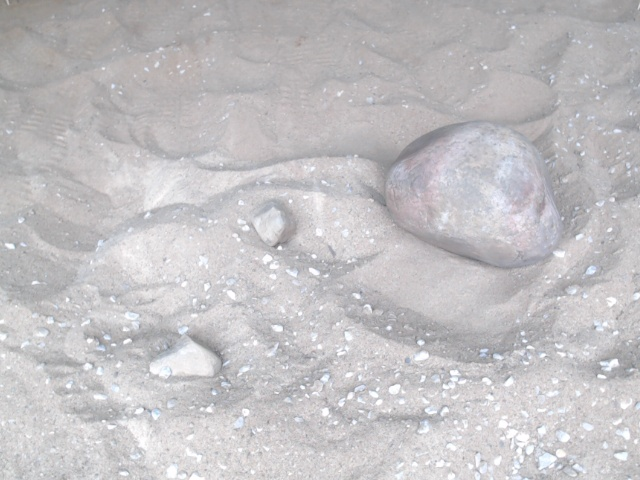rock: (381, 116, 567, 273), (145, 331, 227, 385), (247, 196, 300, 251)
